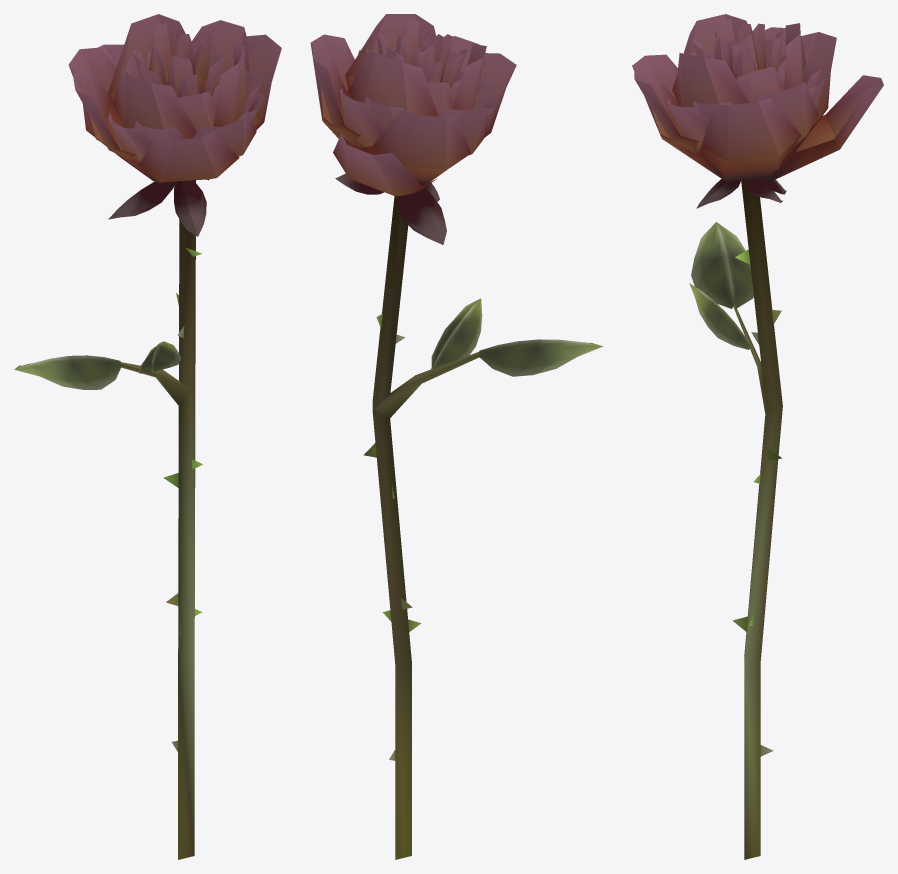
3 views of the same model, side by side, from view 1: azimuth 30°, elevation 25°; view 2: azimuth 150°, elevation 25°; view 3: azimuth 270°, elevation 25° (orthographic).
Parts seen in each view (by area): view 1: Rose_0; view 2: Rose_0; view 3: Rose_0.
Part boxes in pixels (x1,y1,x2,y2): Rose_0: (14, 14, 281, 859); Rose_0: (310, 14, 602, 859); Rose_0: (632, 14, 883, 859).
Size of the model in its own units: 2.95 by 8.47 by 2.35.
